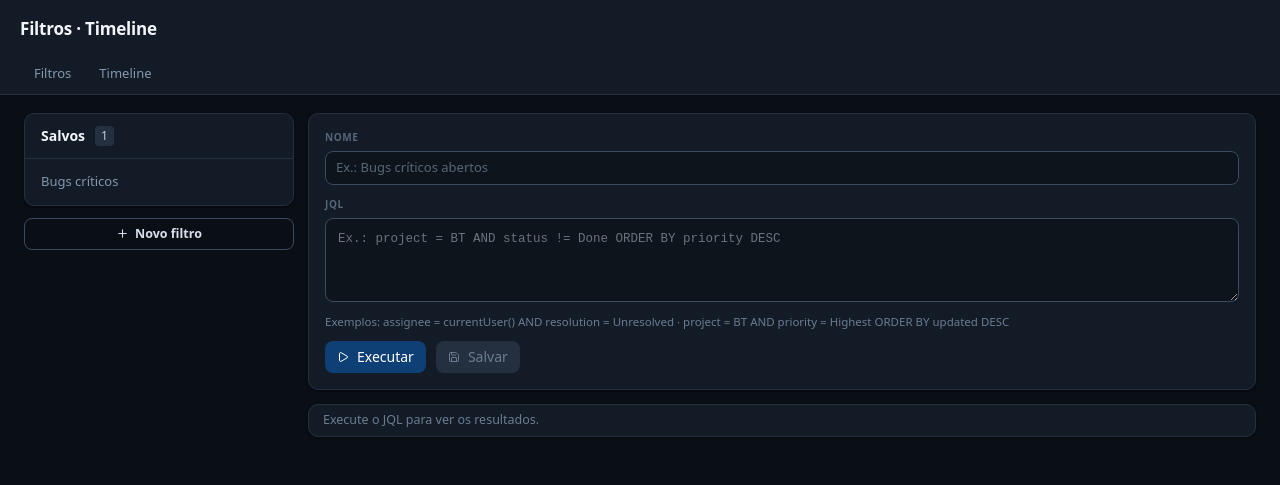
Filters › mostra erro ao salvar
Check: the button "Bugs críticos" is shown, box top-left (41, 172), bottom-right (277, 192)
Step 1. Type "X" into the field with placeholder "Ex.: Bugs críticos abertos" → point(782, 168), box top-left (325, 151), bottom-right (1239, 184)
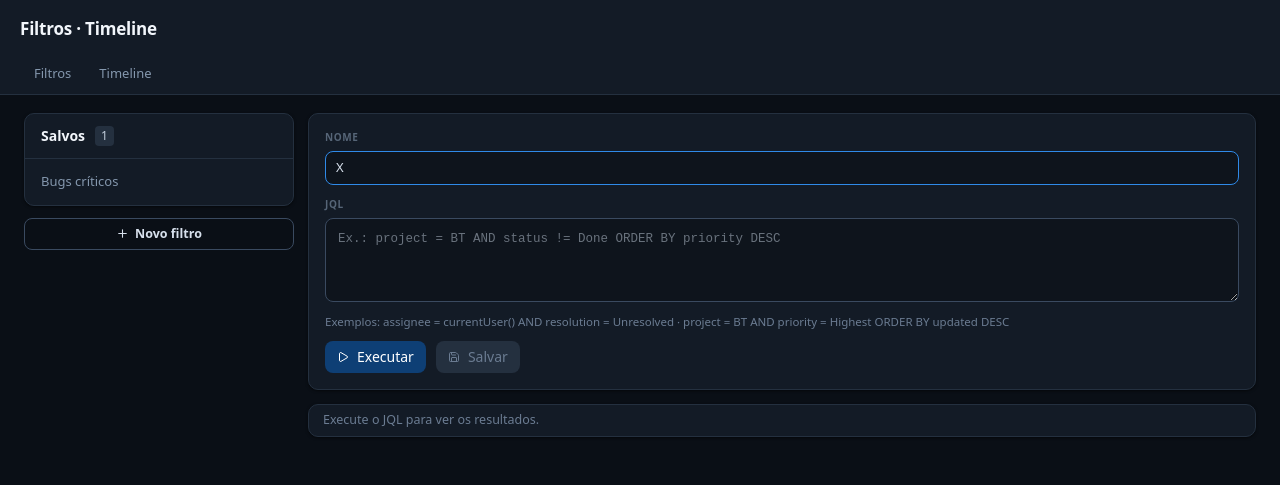
Step 2. Type "project = BT" into the text box → point(782, 260), box top-left (325, 218), bottom-right (1239, 302)
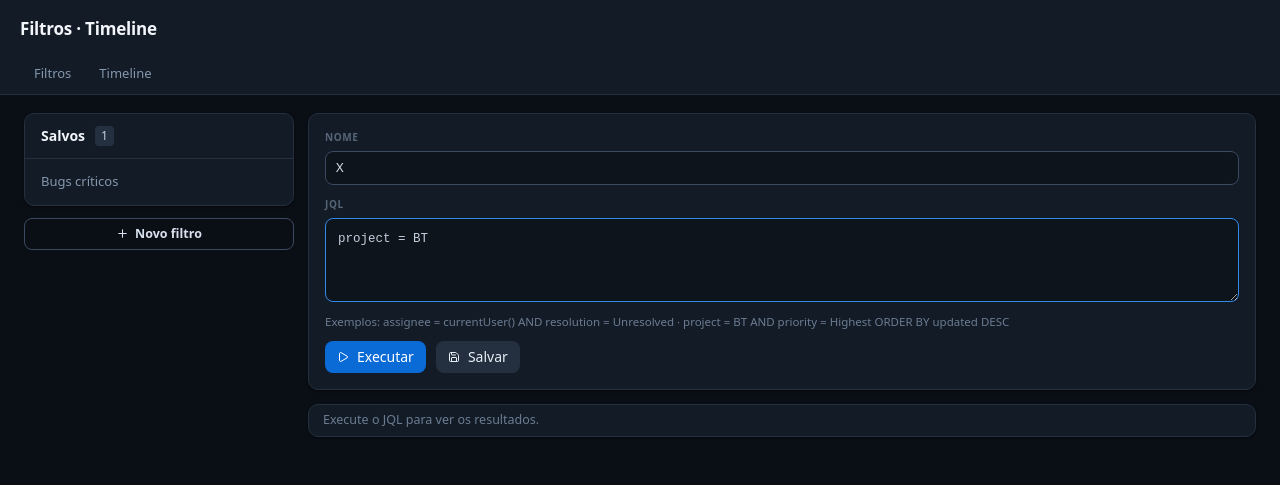
Step 3. Click the button "Salvar" → point(478, 357), box top-left (436, 341), bottom-right (520, 373)
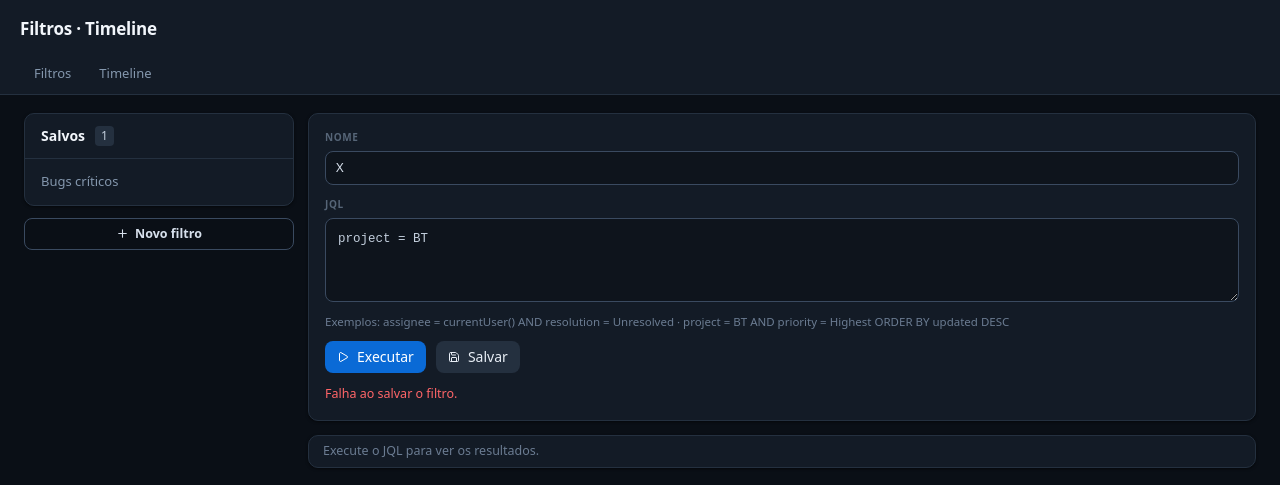
Check: the text "Falha ao salvar o filtro." is shown, box top-left (325, 385), bottom-right (458, 402)
